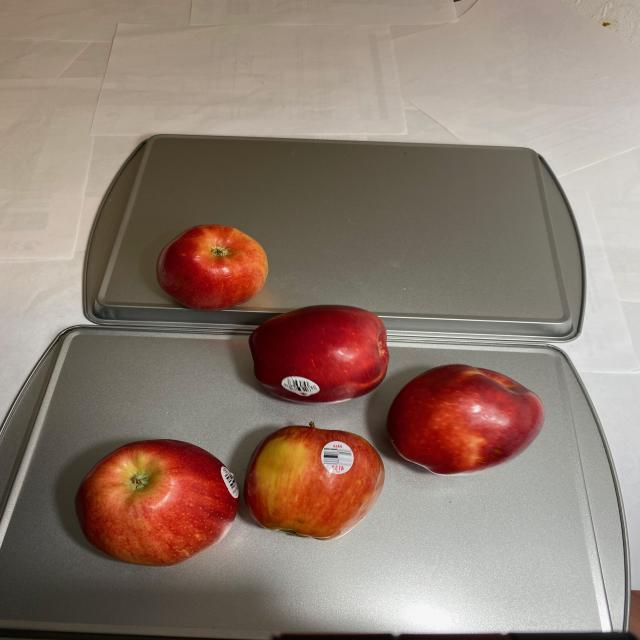apple: (70, 304, 545, 573), (148, 223, 268, 314)
